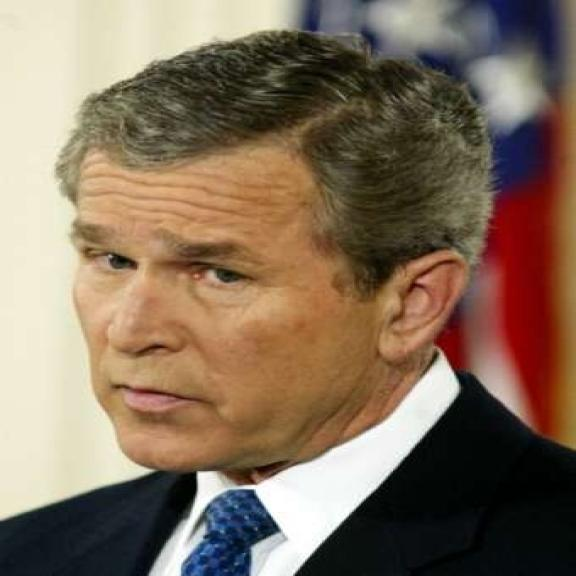face: (76, 165, 475, 495)
